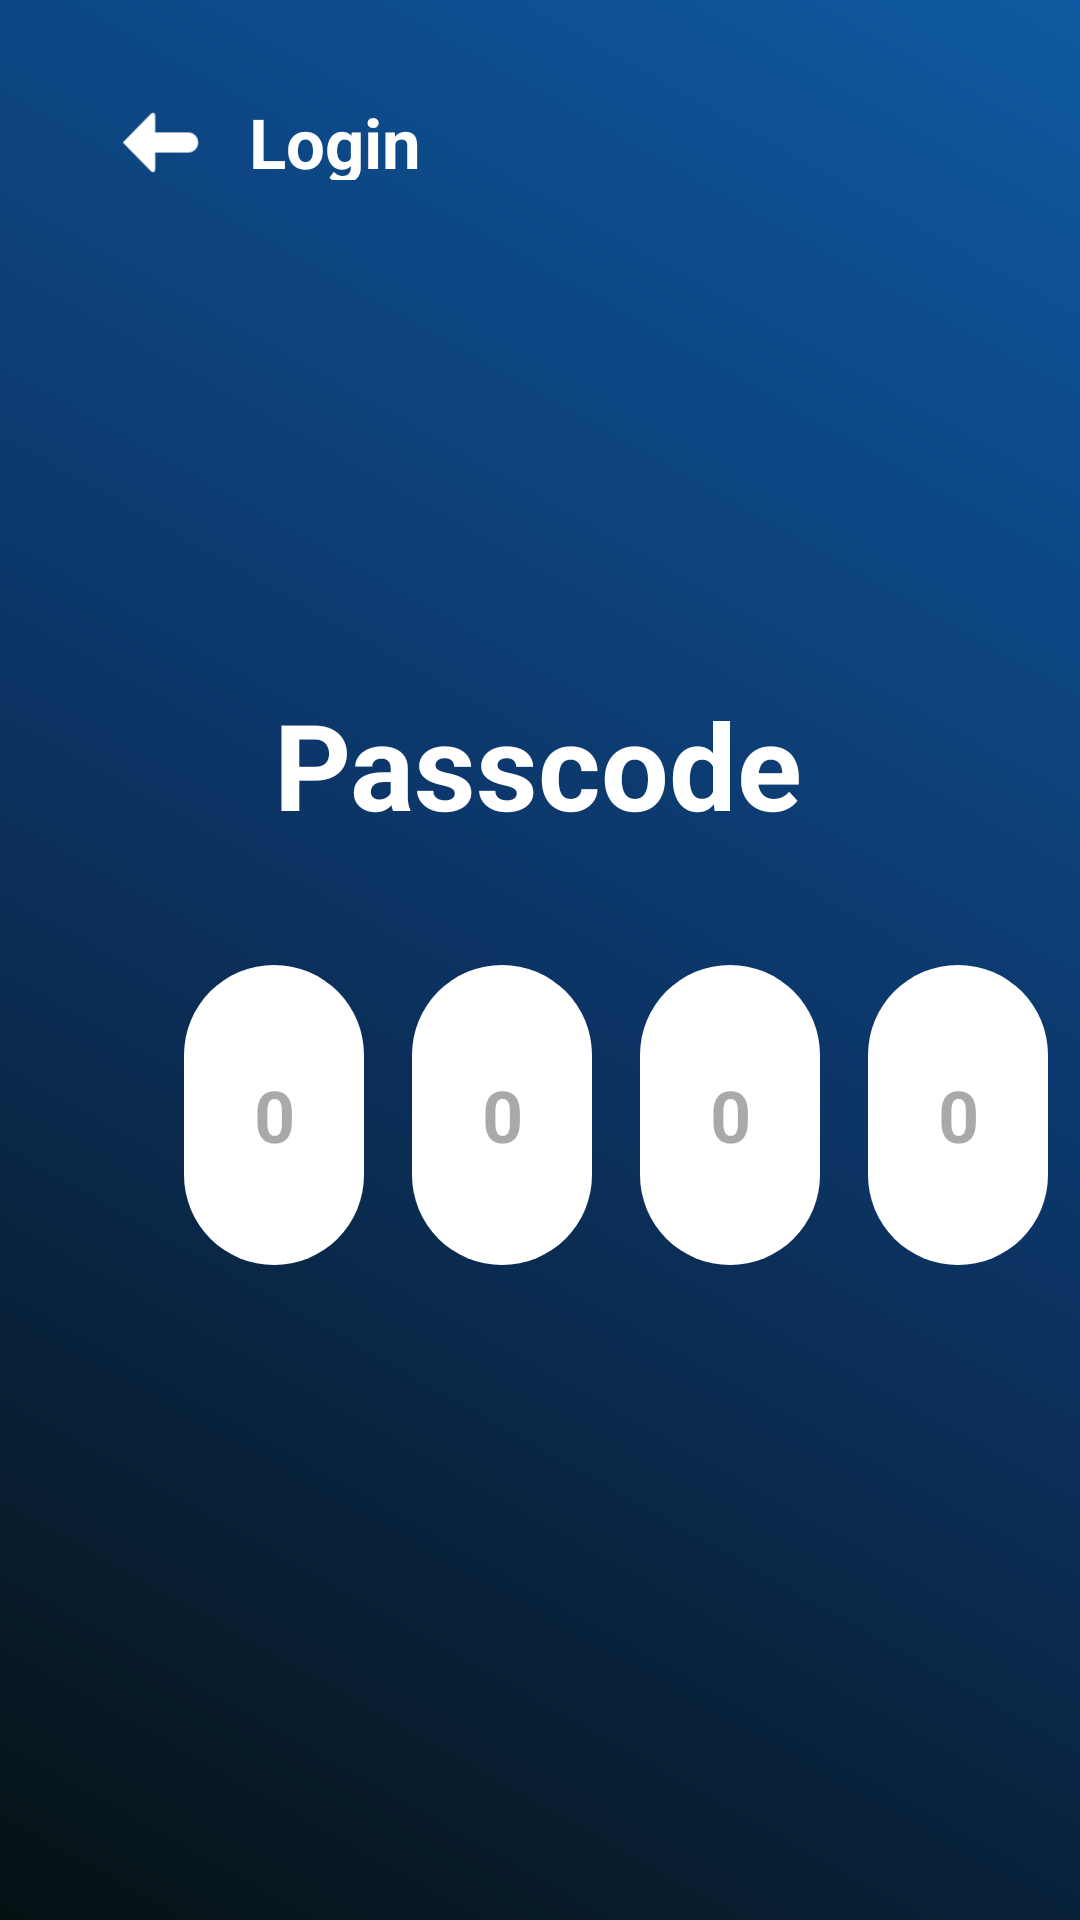

Icons on this 1080w x 1920h Android screen, each with its box as (x1, y1, x2, y2):
arrow: (123, 112, 199, 173)
